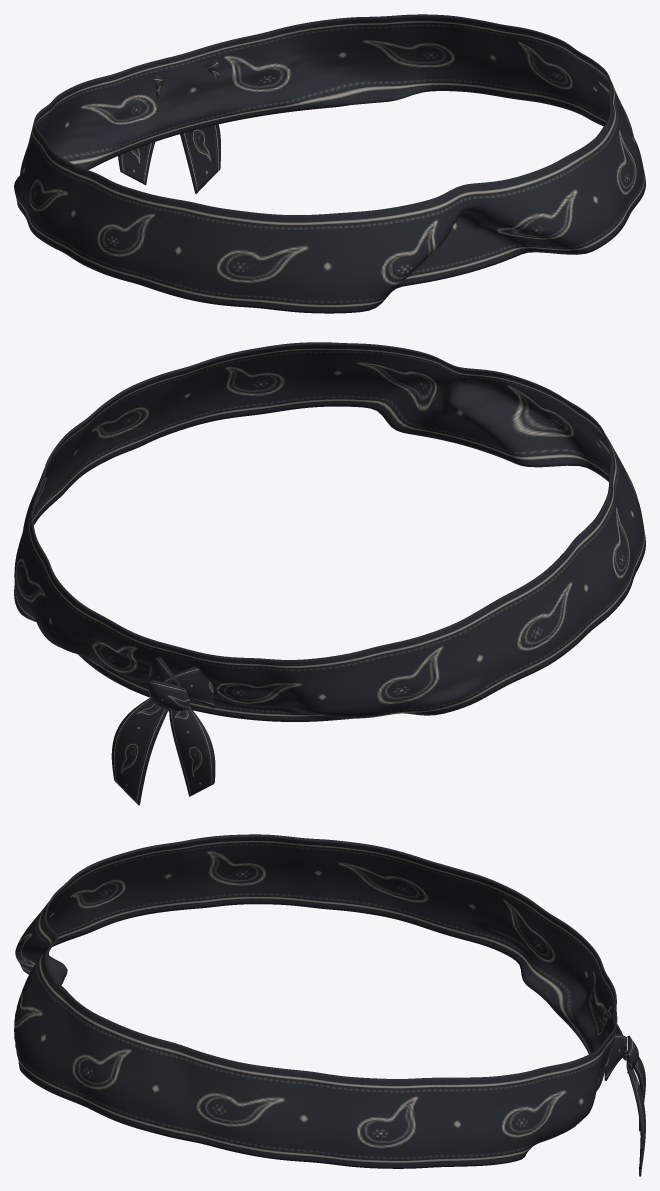
File: Masculine-middle-part-bandana.glb
3 renders of one model, top to bottom at view 1: azimuth 30°, elevation 25°; view 2: azimuth 150°, elevation 25°; view 3: azimuth 270°, elevation 25°, orthographic.
Parts seen in each view (by area): view 1: Bandana / folded wrap, Bandana / hemmed tail 1, Bandana / hemmed tail -1; view 2: Bandana / folded wrap, Bandana / hemmed tail 1, Bandana / hemmed tail -1, Bandana / gathered fold -1, Bandana / rounded knot fold; view 3: Bandana / folded wrap, Bandana / hemmed tail 1, Bandana / gathered fold 1.
Part boxes in pixels (x1,y1,x2,y2): Bandana / folded wrap: [14, 14, 645, 313]; Bandana / hemmed tail 1: [180, 124, 220, 193]; Bandana / hemmed tail -1: [118, 142, 155, 185]; Bandana / folded wrap: [14, 342, 645, 721]; Bandana / hemmed tail 1: [111, 697, 167, 805]; Bandana / hemmed tail -1: [169, 708, 215, 796]; Bandana / gathered fold -1: [164, 666, 213, 708]; Bandana / rounded knot fold: [148, 680, 190, 711]; Bandana / folded wrap: [14, 834, 617, 1168]; Bandana / hemmed tail 1: [626, 1058, 645, 1176]; Bandana / gathered fold 1: [604, 1033, 626, 1080].
Bounding box in the file's own units: 0.8293 × 0.34 × 0.8522.
Materials: 1 (1 with a texture image).
